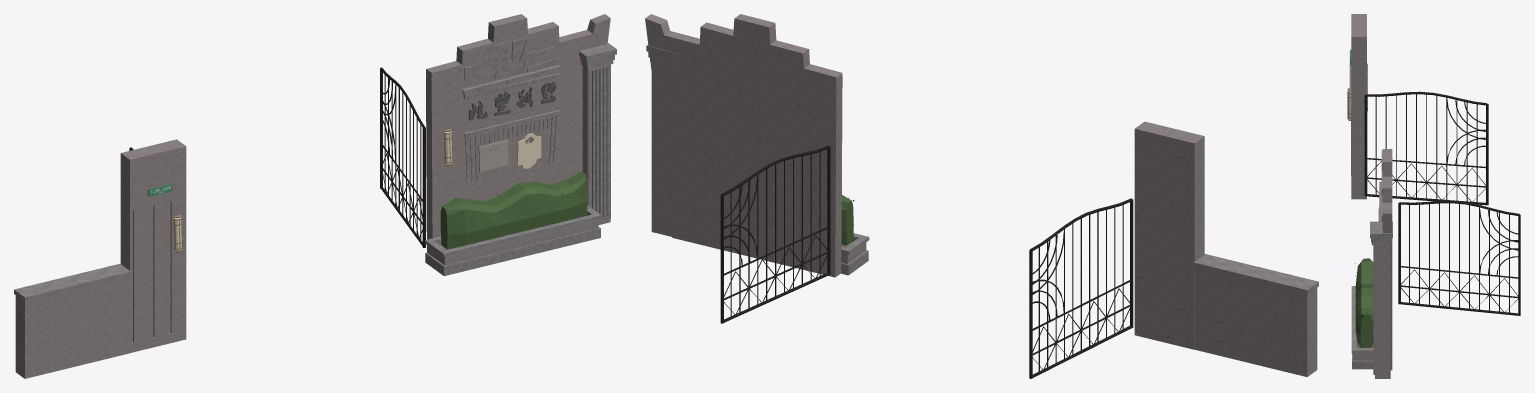
Rendered from lod-source.glb.
3 views of the same model, side by side, from view 1: azimuth 30°, elevation 25°; view 2: azimuth 150°, elevation 25°; view 3: azimuth 270°, elevation 25° (orthographic). The views are drawn at different scales.
Visible parts, largest first — view 1: 兆丰别墅长宁路弄口题名墙; view 2: 兆丰别墅长宁路弄口题名墙; view 3: 兆丰别墅长宁路弄口题名墙.
Boxes of the visible parts, x1,y1,x2,y2 form: 兆丰别墅长宁路弄口题名墙: [14, 14, 616, 378]; 兆丰别墅长宁路弄口题名墙: [645, 14, 1318, 378]; 兆丰别墅长宁路弄口题名墙: [1347, 14, 1520, 378].
Size of the model in its own units: 11.21 by 3.89 by 3.31.
16 materials, 4 textured.
